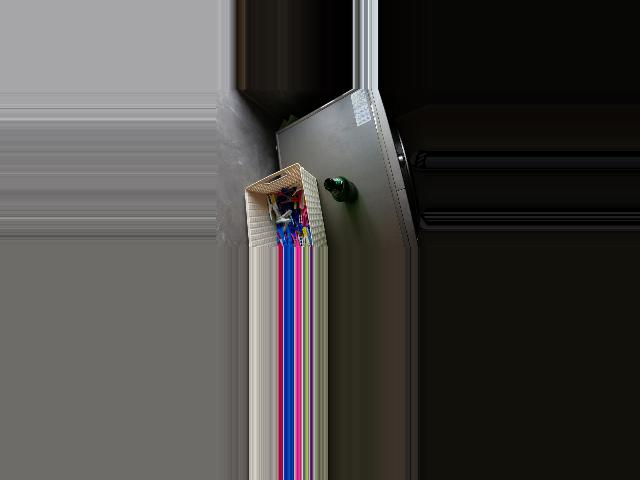beer: (324, 178, 358, 203)
